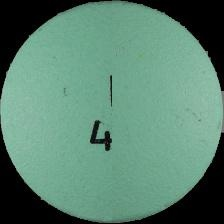66213-421: (0, 0, 224, 224)
